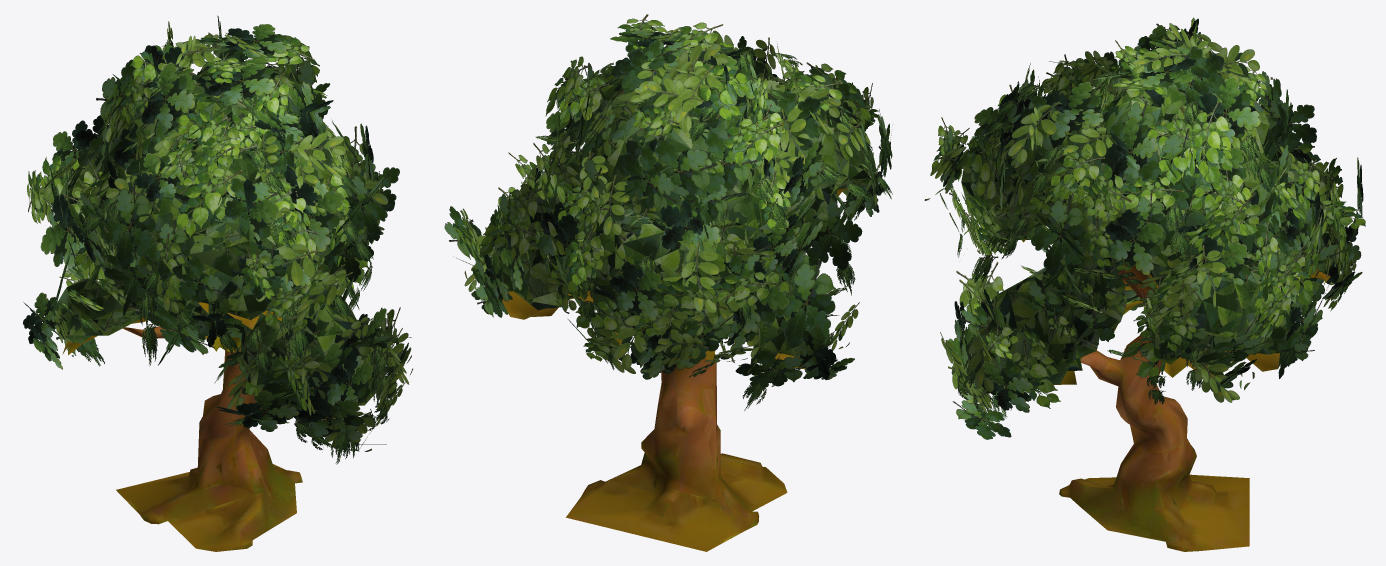
The model's file is oak_2_field.glb.
The picture shows the model from 3 angles, left to right: view 1: azimuth 30°, elevation 25°; view 2: azimuth 150°, elevation 25°; view 3: azimuth 270°, elevation 25°; orthographic projection.
Parts seen in each view (by area): view 1: Fable_oak_2; view 2: Fable_oak_2; view 3: Fable_oak_2.
Part boxes in pixels (<box>): Fable_oak_2: <box>23,15,412,551</box>; Fable_oak_2: <box>444,14,892,551</box>; Fable_oak_2: <box>924,17,1365,551</box>.
Bounding box in the file's own units: 6.61 × 7.64 × 6.5.
2 materials, 2 textured.
